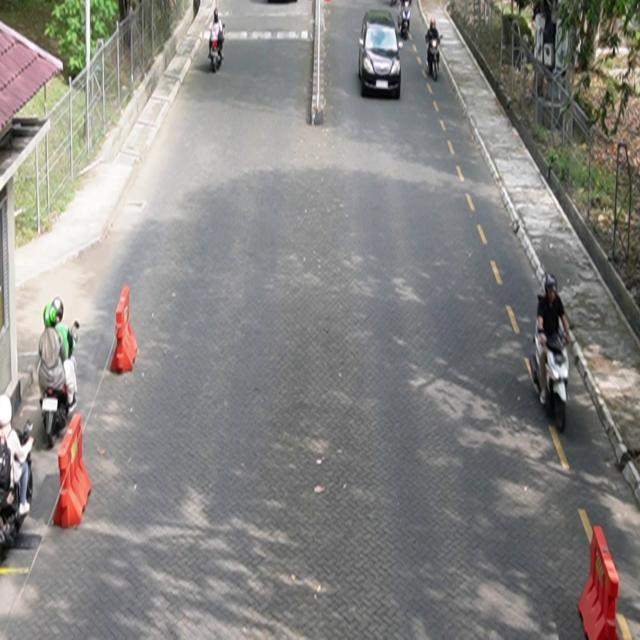car: (359, 9, 404, 100)
